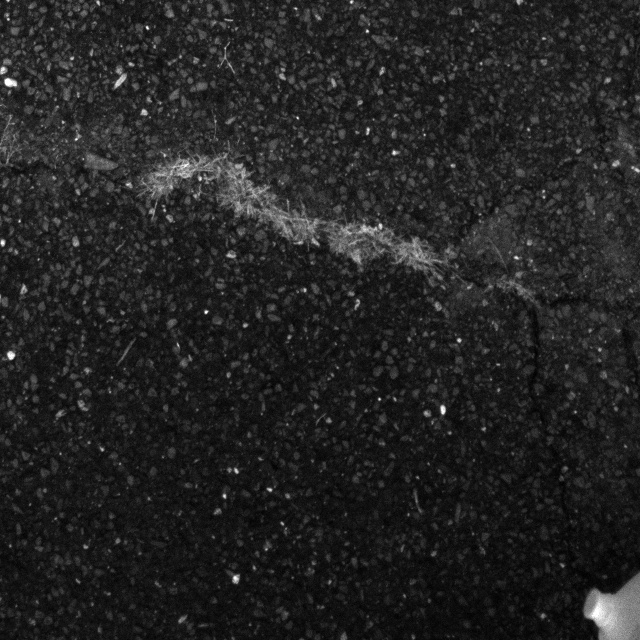can: (569, 570, 639, 640)
